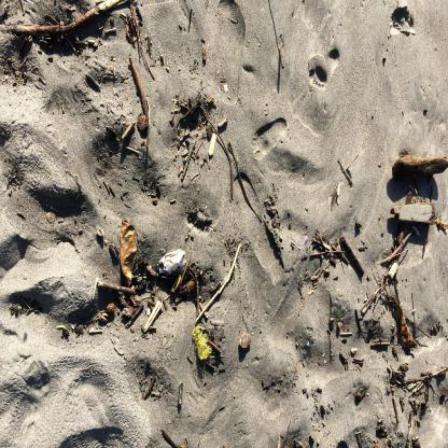Other litter: (194, 325, 214, 361)
Other plastic: (304, 237, 310, 247)
Paper: (157, 250, 187, 275)
